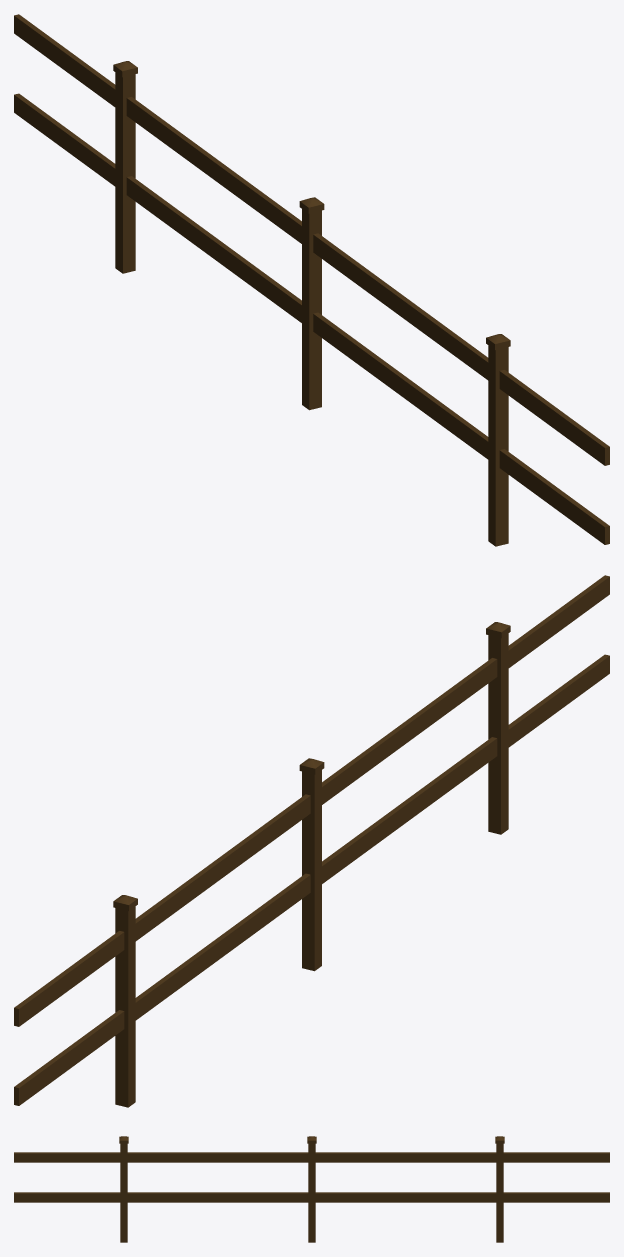
The model's file is cerca.fbx.
3 views of the same model, one above another, from view 1: azimuth 30°, elevation 25°; view 2: azimuth 150°, elevation 25°; view 3: azimuth 270°, elevation 25° (orthographic). The views are drawn at different scales.
Visible parts, largest first — view 1: pCube5, pCube4, pCube2, pCube3, pCube1; view 2: pCube5, pCube4, pCube3, pCube2, pCube1; view 3: pCube4, pCube5, pCube1, pCube2, pCube3.
Boxes of the visible parts, left/top/right/bottom form: pCube5: left=14, top=93, right=609, bottom=544; pCube4: left=14, top=14, right=609, bottom=465; pCube2: left=113, top=61, right=137, bottom=273; pCube3: left=486, top=334, right=510, bottom=546; pCube1: left=299, top=197, right=324, bottom=410; pCube5: left=14, top=654, right=609, bottom=1105; pCube4: left=14, top=575, right=609, bottom=1026; pCube3: left=486, top=622, right=510, bottom=834; pCube2: left=113, top=895, right=137, bottom=1107; pCube1: left=299, top=758, right=324, bottom=971; pCube4: left=14, top=1152, right=609, bottom=1162; pCube5: left=14, top=1192, right=609, bottom=1202; pCube1: left=307, top=1136, right=316, bottom=1242; pCube2: left=495, top=1136, right=504, bottom=1242; pCube3: left=119, top=1136, right=128, bottom=1242.
Size of the model in its own units: 0.5791 by 7.37 by 38.04.
